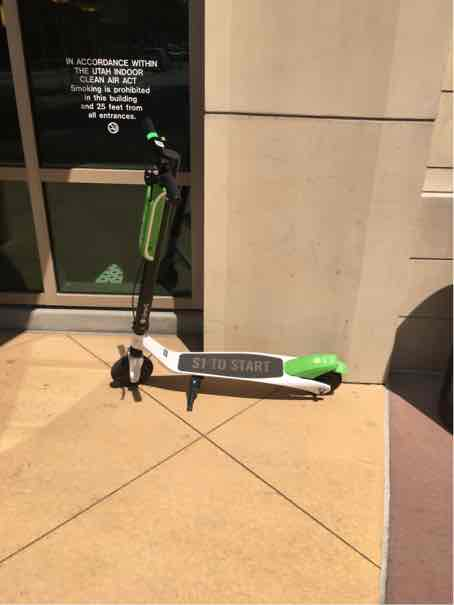scooter: (107, 108, 362, 395)
